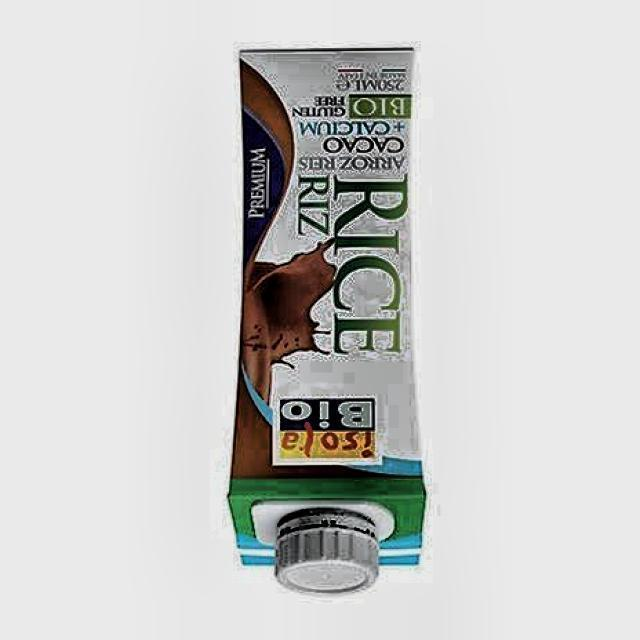cardboard: (228, 48, 429, 580)
